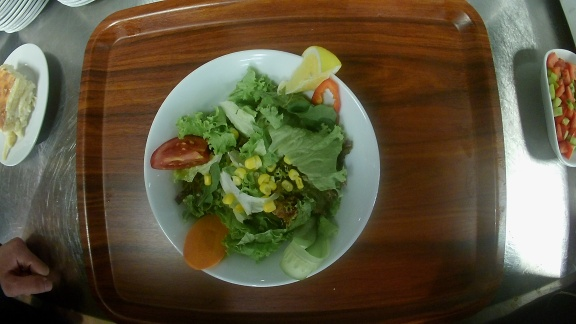salata: (143, 45, 381, 287)
